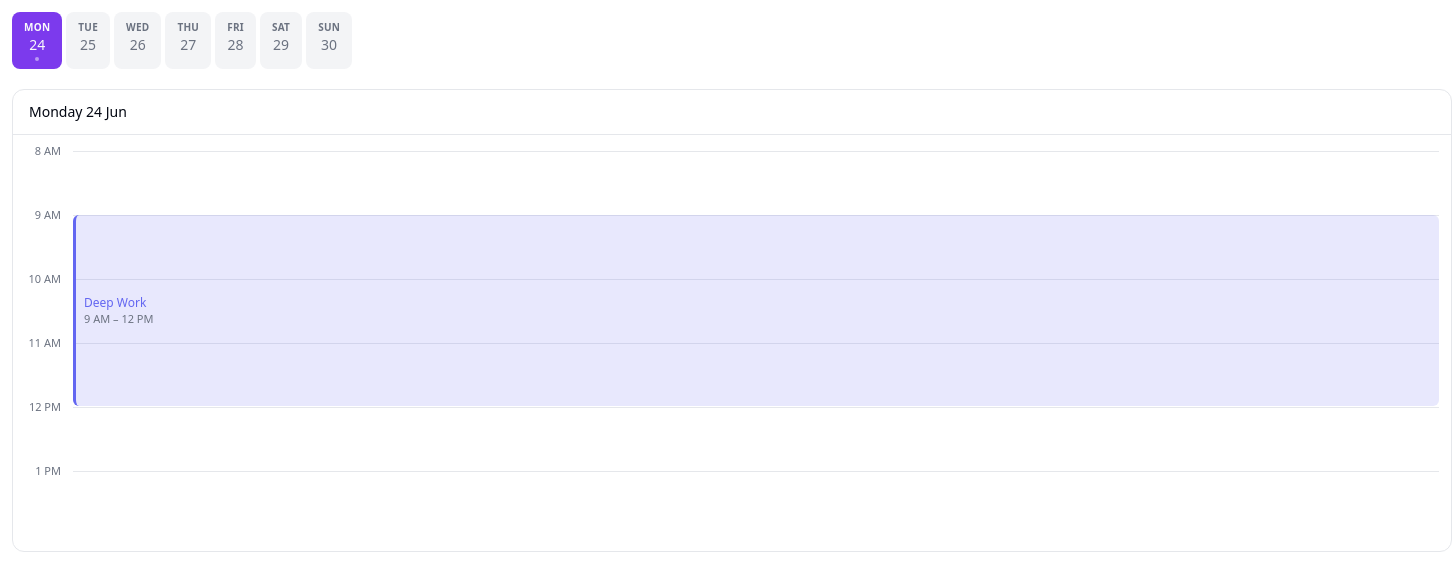
DayView › shows no blocks message for empty day
Click the button "Tue 25".
click(88, 40)  # box [66,12,110,69]
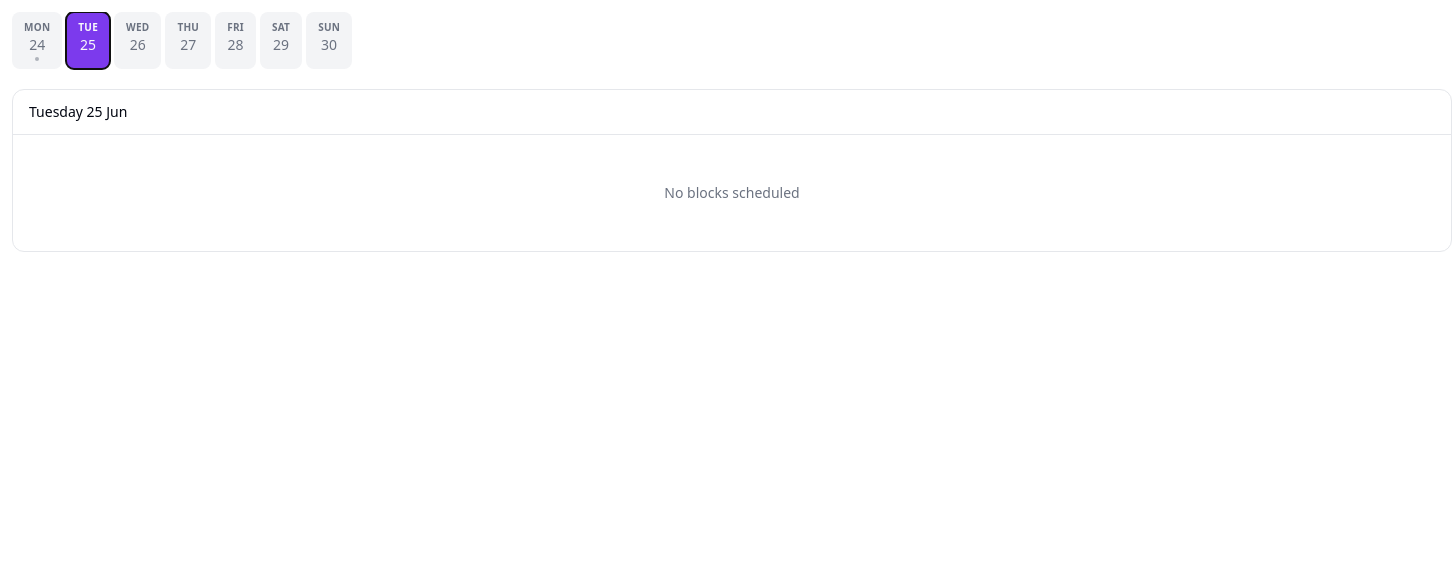
Now the text "No blocks scheduled" is shown, box [664,183,800,202]
